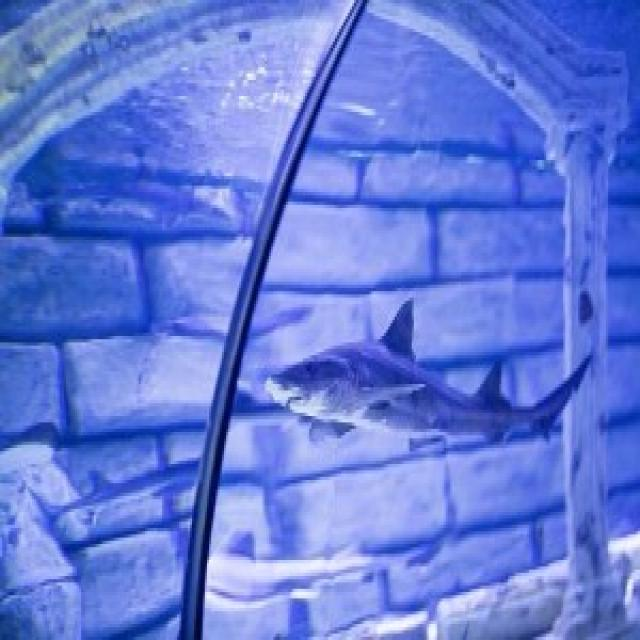Shark: (256, 288, 601, 488)
